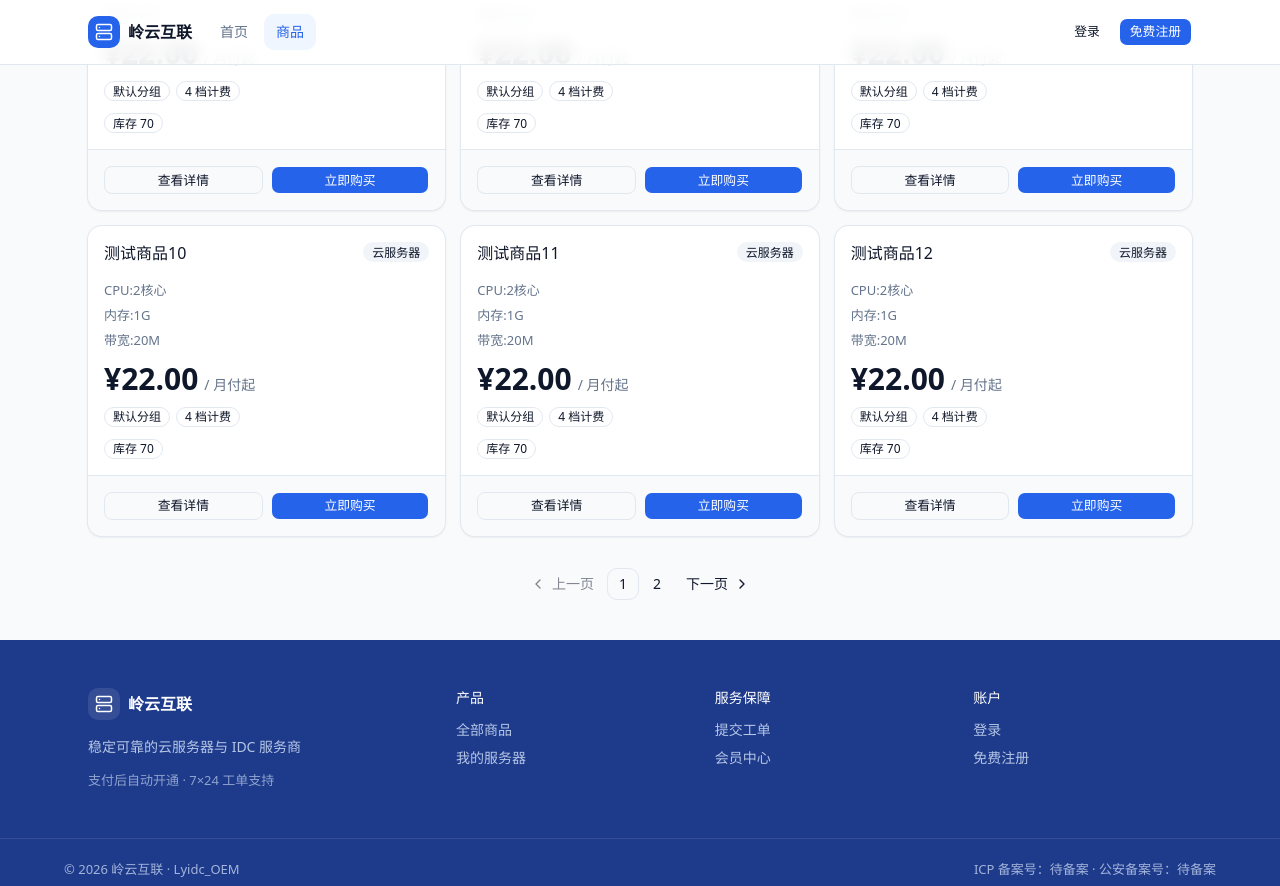
Test: 商品列表页 › 超过每页条数时分页，翻页切换商品
This screenshot has width=1280, height=886.
(page scrolled)
expect the link "测试商品12" is shown: met, box [851,242,933,264]
Click the link named "第 2 页" at x=657, y=583, box [653,574,661,592]
(page scrolled)
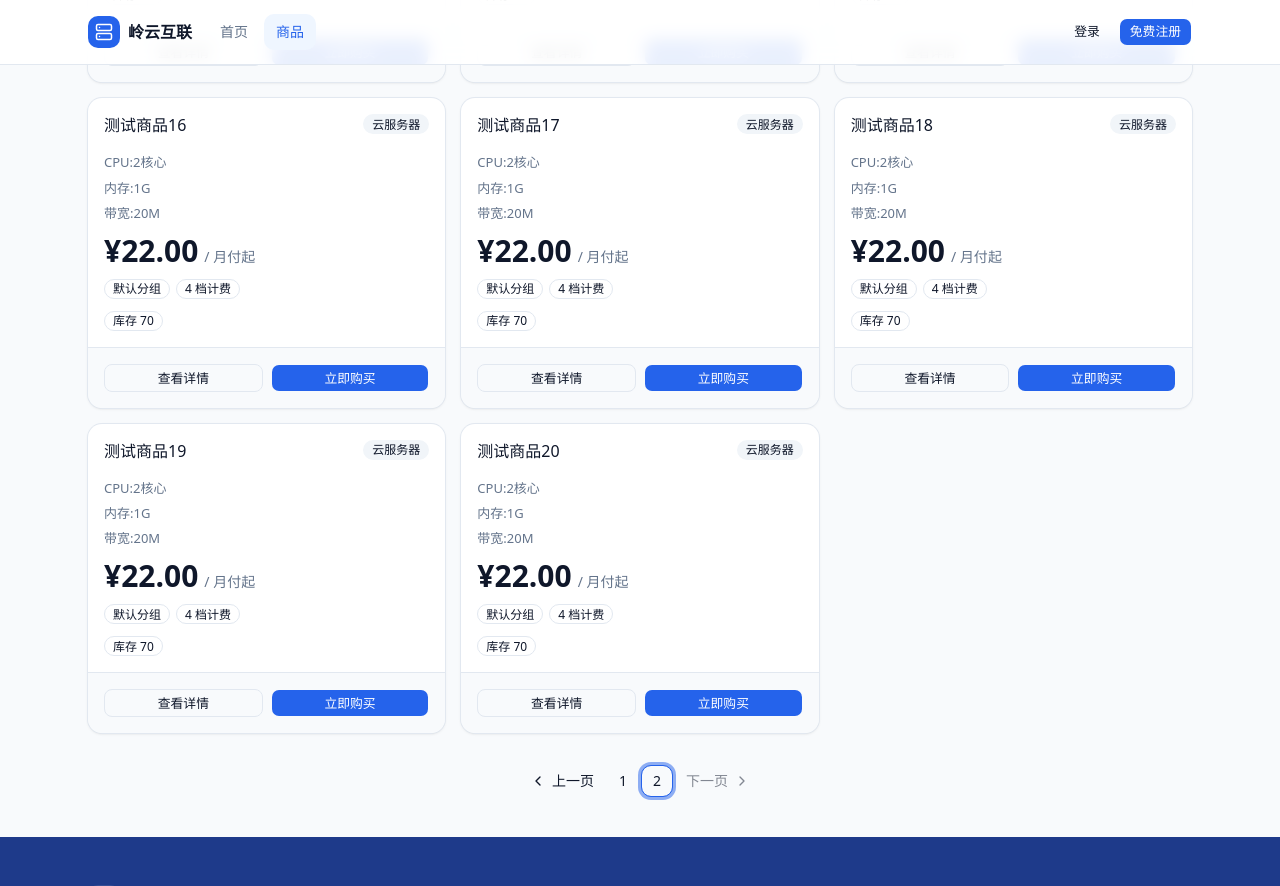
expect the link "测试商品20" is shown: met, box [477,440,560,462]
